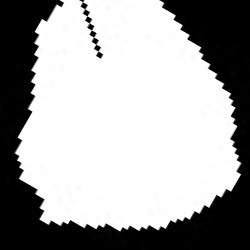spot: (19, 5, 238, 229)
